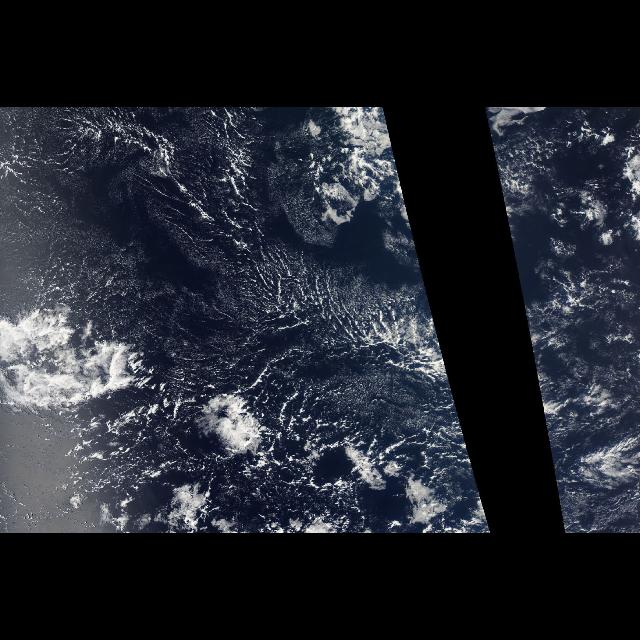Gravel: (116, 410, 330, 530)
Sugar: (222, 262, 390, 360)
